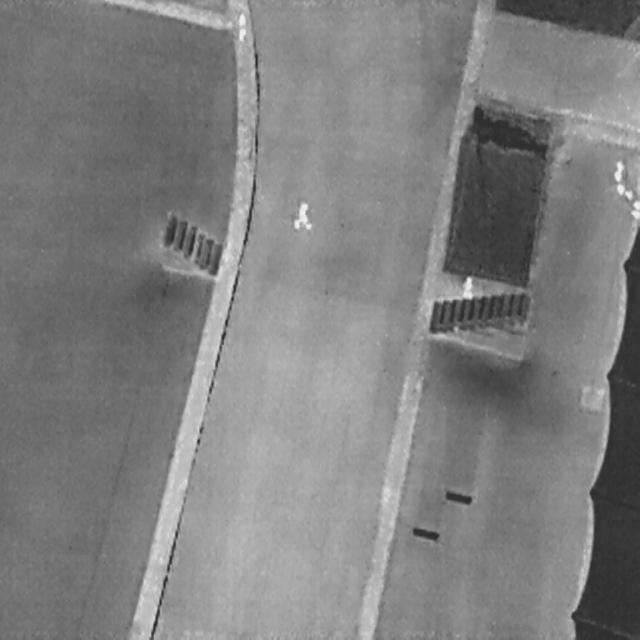Person: (294, 199, 312, 230), (236, 10, 247, 41), (462, 274, 472, 298)
